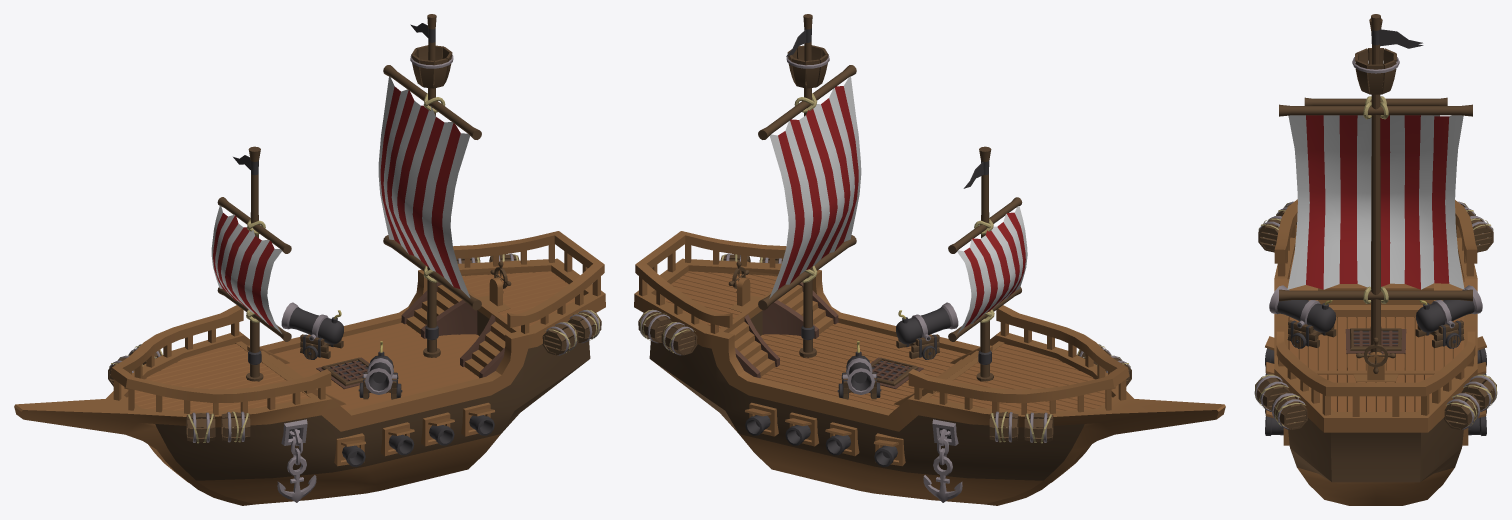
The model's file is shipLarge.glb.
3 renders of one model, left to right at view 1: azimuth 30°, elevation 25°; view 2: azimuth 150°, elevation 25°; view 3: azimuth 270°, elevation 25°, orthographic. The views are drawn at different scales.
Visible parts, largest first — view 1: Ship_Large; view 2: Ship_Large; view 3: Ship_Large.
Part boxes in pixels (bbox=[...]): Ship_Large: bbox=[14, 14, 605, 505]; Ship_Large: bbox=[634, 14, 1225, 505]; Ship_Large: bbox=[1254, 14, 1497, 505].
Bounding box in the file's own units: 15.43 × 11.48 × 5.3.
1 material, 1 textured.
